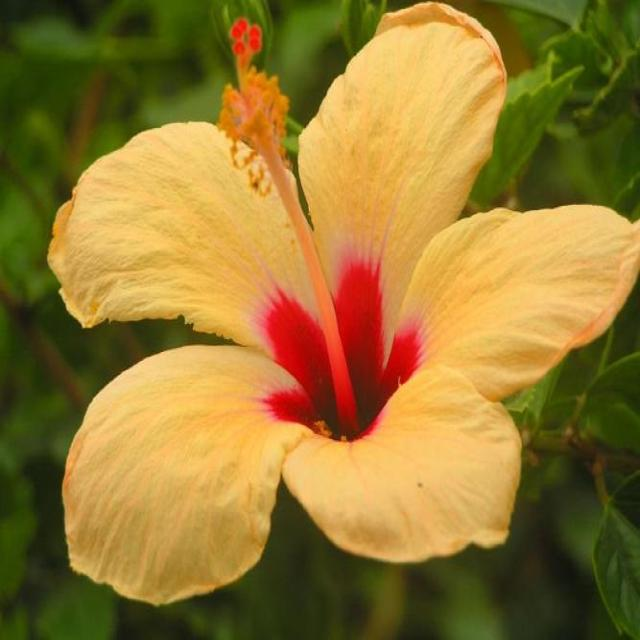hibiscus: (42, 14, 640, 624)
